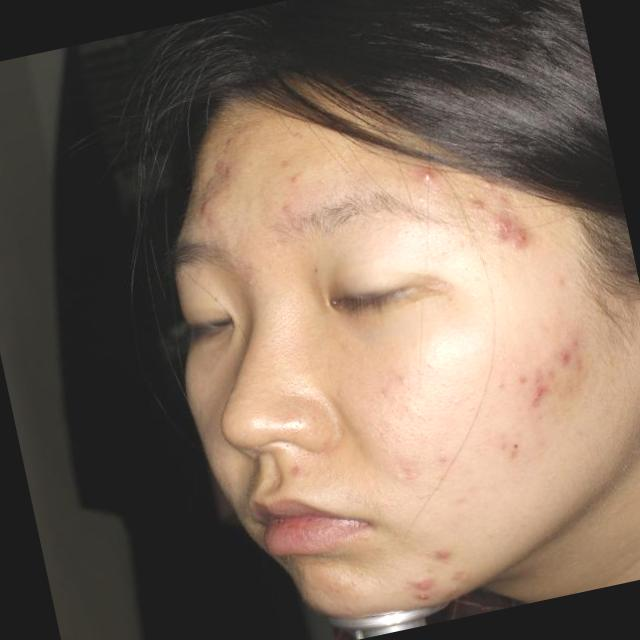acne: (406, 160, 441, 200), (206, 154, 242, 190), (548, 336, 577, 379), (511, 359, 545, 389), (512, 224, 542, 256), (193, 192, 227, 220), (489, 211, 519, 241), (528, 378, 556, 408), (401, 566, 437, 588), (428, 537, 457, 563), (420, 582, 444, 604)
